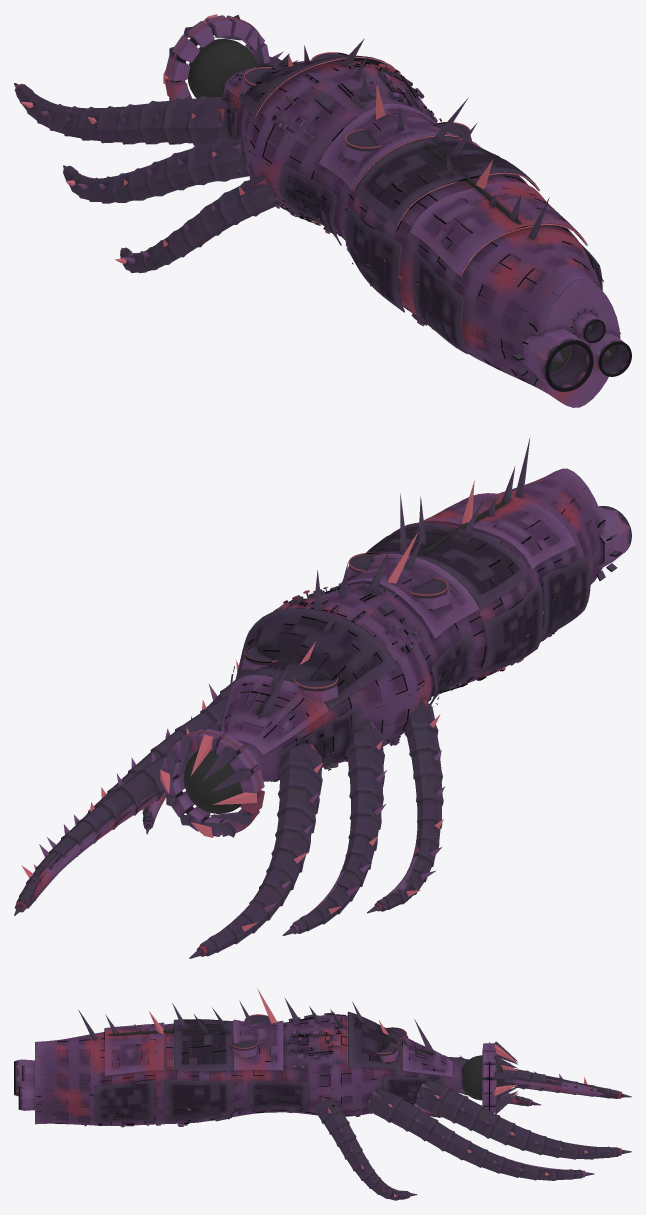
Rendered from chaos_beast_hero.glb.
3 renders of one model, top to bottom at view 1: azimuth 30°, elevation 25°; view 2: azimuth 150°, elevation 25°; view 3: azimuth 270°, elevation 25°, orthographic. The views are drawn at different scales.
Visible parts, largest first — view 1: HullBaked; view 2: HullBaked; view 3: HullBaked.
Part boxes in pixels (box(x1,y1,x2,y2)): HullBaked: box(14, 14, 631, 407); HullBaked: box(14, 437, 631, 958); HullBaked: box(14, 988, 631, 1200).
Bounding box in the file's own units: 465 × 362 × 1244.
Materials: 1 (1 with a texture image).
